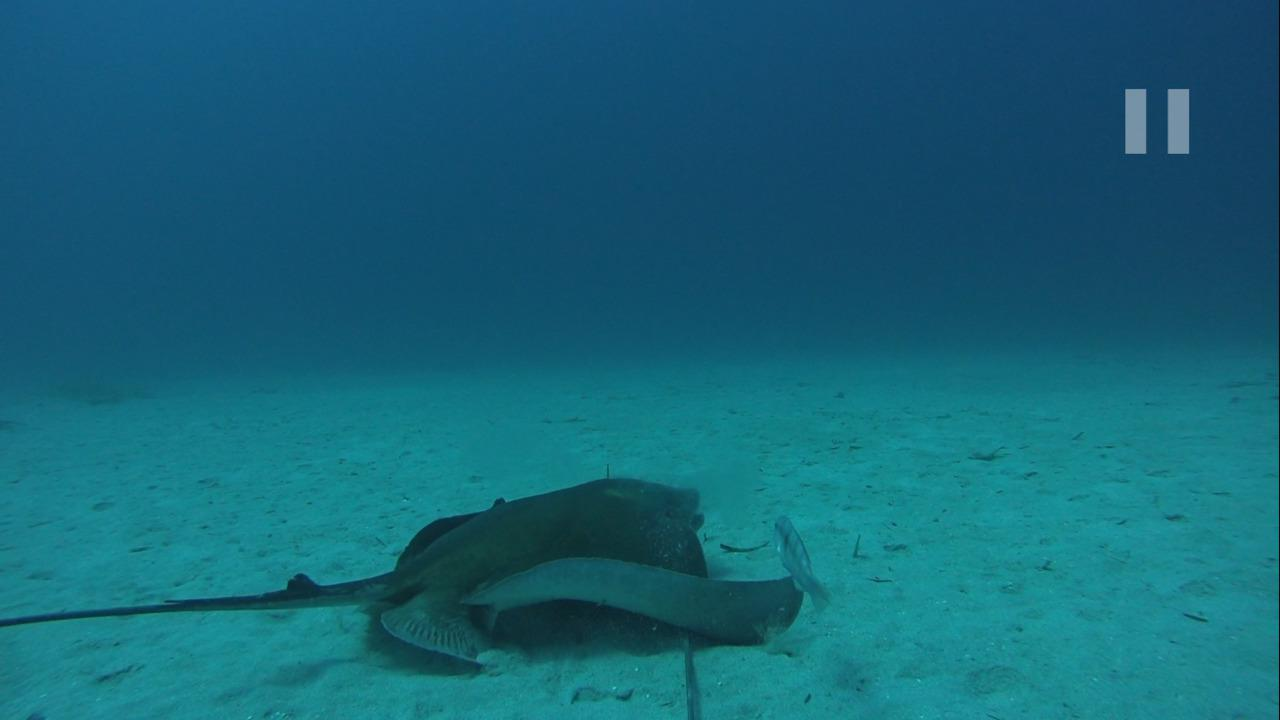myliobatis: (3, 467, 804, 684)
raor: (758, 506, 838, 611)
